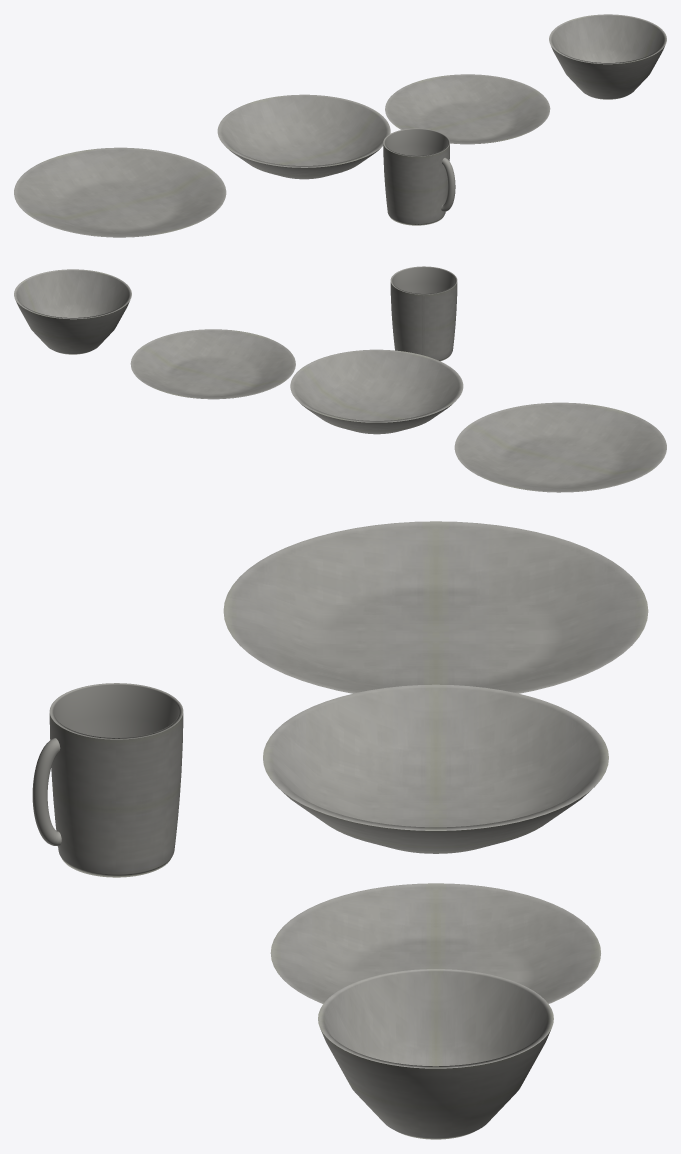
The model's file is GRL-07.glb.
3 views of the same model, one above another, from view 1: azimuth 30°, elevation 25°; view 2: azimuth 150°, elevation 25°; view 3: azimuth 270°, elevation 25° (orthographic). The views are drawn at different scales.
Size of the model in its own units: 0.926 by 0.1 by 0.3913.
11 materials, 9 textured.
